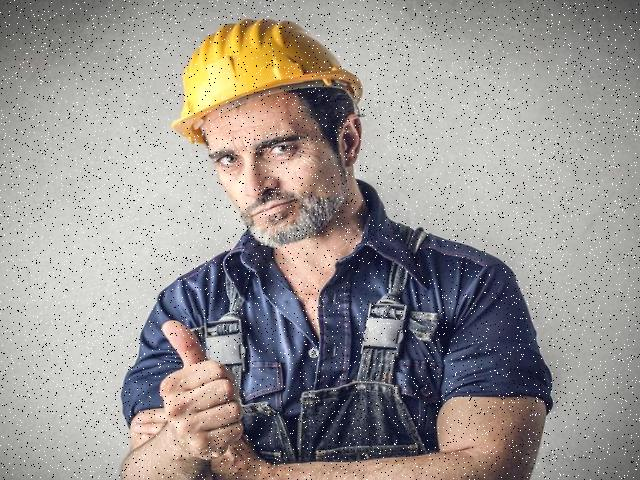Helmet: (163, 14, 368, 144)
